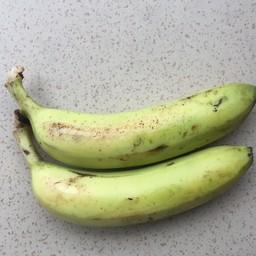Good_banana: (10, 73, 256, 165), (15, 138, 255, 231)
